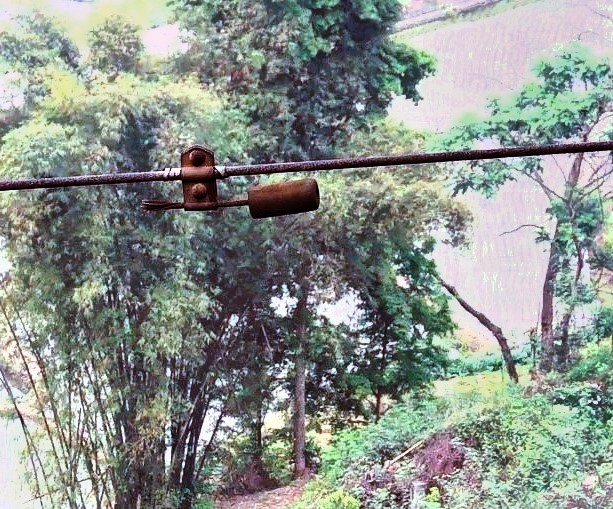Damage of shockproof hammer: (134, 132, 330, 223)
